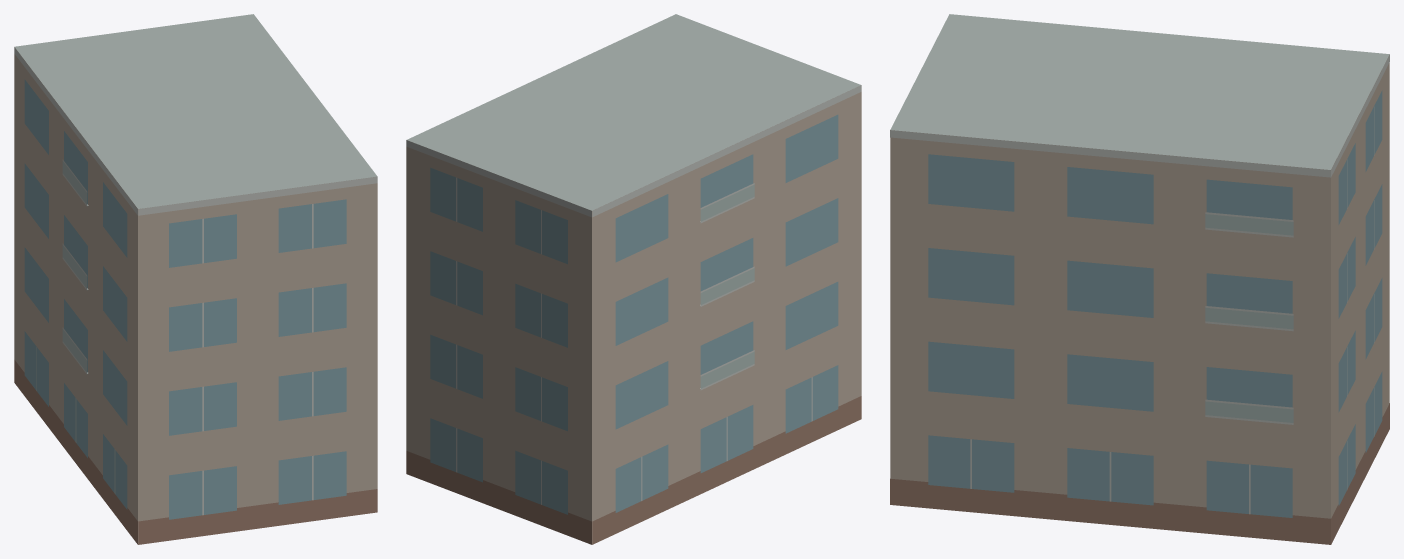
Rendered from residential-74aee53d-debd-428f-ae76-0875e62cfd4b.glb.
3 renders of one model, left to right at view 1: azimuth 30°, elevation 25°; view 2: azimuth 150°, elevation 25°; view 3: azimuth 270°, elevation 25°, orthographic. The views are drawn at different scales.
Parts seen in each view (by area): view 1: residential-74aee53d-debd-428f-ae76-0875e62cfd4b.tmp; view 2: residential-74aee53d-debd-428f-ae76-0875e62cfd4b.tmp; view 3: residential-74aee53d-debd-428f-ae76-0875e62cfd4b.tmp.
Part boxes in pixels (<box>): residential-74aee53d-debd-428f-ae76-0875e62cfd4b.tmp: <box>14,14,377,544</box>; residential-74aee53d-debd-428f-ae76-0875e62cfd4b.tmp: <box>406,14,861,544</box>; residential-74aee53d-debd-428f-ae76-0875e62cfd4b.tmp: <box>890,14,1389,544</box>.
Size of the model in its own units: 10.9 by 12.2 by 14.75.
